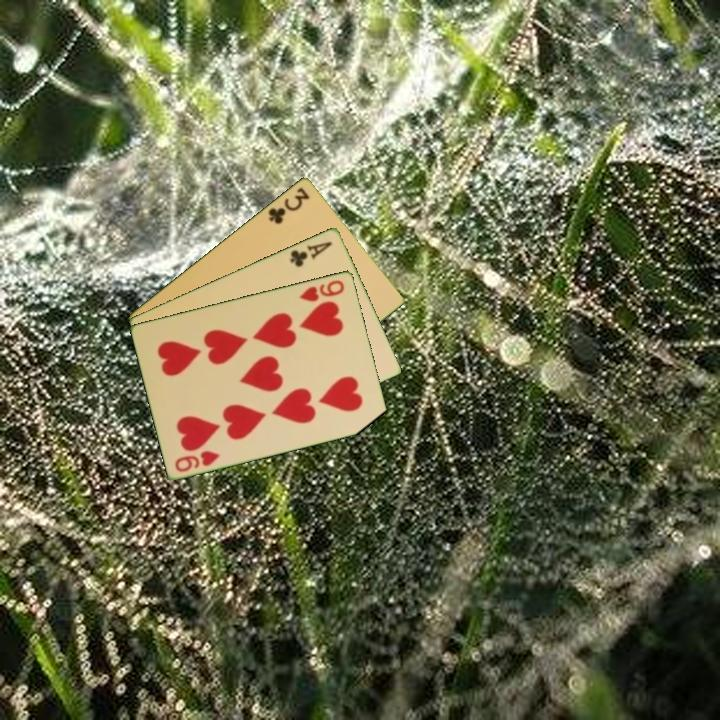3c: (264, 183, 313, 227)
9h: (172, 446, 222, 475), (296, 276, 347, 304)
Ac: (286, 237, 335, 270)
